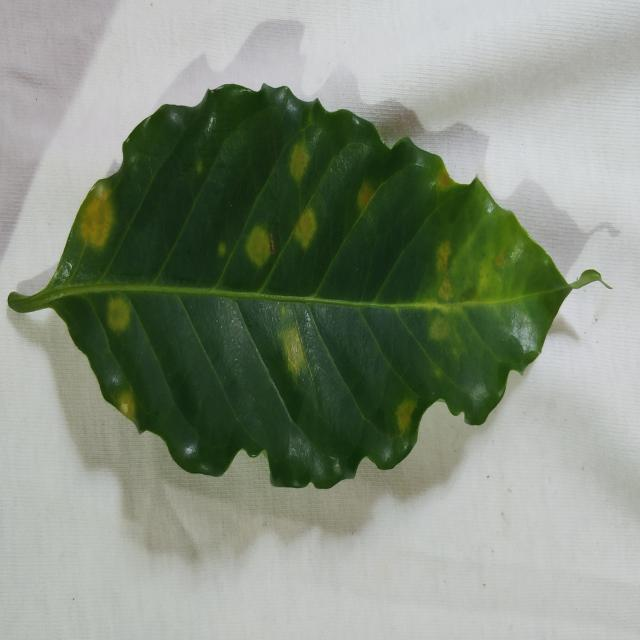Enfermedad-Roya: (7, 84, 608, 493)
